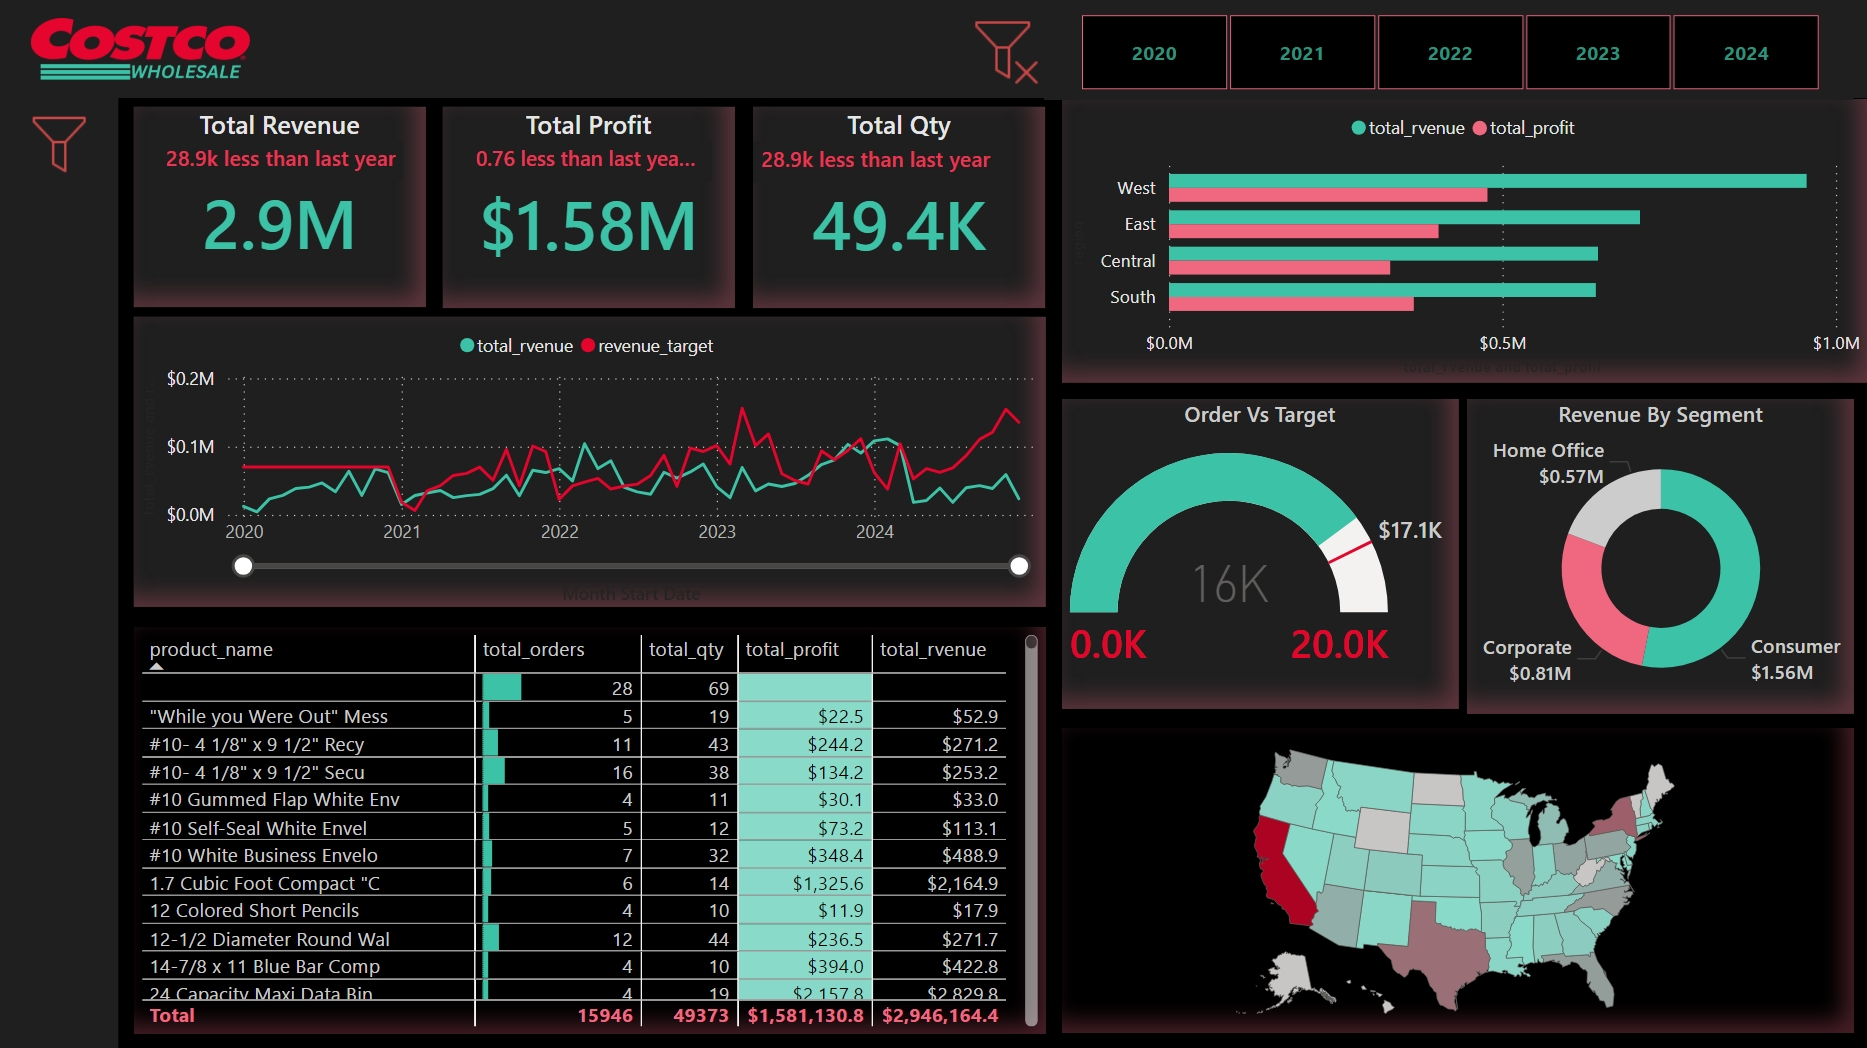

Layout of this report page (visuals, bound fields, positions):
{"tool":"powerbi","page":{"name":"Page 1","canvas":[1280,720],"ordinal":0},"visuals":[{"type":"shape","box":[0,0,1280.1,67.2],"z":0},{"type":"shape","box":[0,67.2,81.1,653.3],"z":1000},{"type":"image","box":[13.6,0,165,72.7],"z":2000},{"type":"card","title":"Total Revenue","fields":{"Values":["mesures_table.total_rvenue"]},"box":[90.9,72.7,200,137.1],"z":3000},{"type":"card","title":"Total Qty","fields":{"Values":["mesures_table.total_qty"]},"box":[514.8,72.7,199.9,137.8],"z":4000},{"type":"card","title":"Total Profit","fields":{"Values":["mesures_table.total_profit"]},"box":[302.9,72.7,199.9,137.8],"z":5000},{"type":"clusteredBarChart","fields":{"Category":["customers.region"],"Y":["mesures_table.total_rvenue","mesures_table.total_profit"]},"box":[726.8,68.1,552.7,193.8],"z":6000},{"type":"lineChart","fields":{"Category":["date_table.Month Start Date"],"Y":["mesures_table.total_rvenue","mesures_table.revenue_target"]},"box":[90.9,216.5,623.9,198.4],"z":7000},{"type":"gauge","title":"Order Vs Target","fields":{"Y":["mesures_table.total_orders"],"TargetValue":["mesures_table.target_orders"]},"box":[726.8,272.6,271,212],"z":8000},{"type":"donutChart","title":"Revenue By Segment","fields":{"Y":["mesures_table.total_rvenue"],"Category":["customers.Segment"]},"box":[1003.9,272.6,265,215],"z":9000},{"type":"tableEx","fields":{"Values":["products.product_name","mesures_table.total_orders","mesures_table.total_qty","mesures_table.total_profit","mesures_table.total_rvenue"]},"box":[90.9,428.5,623.9,278.6],"z":10000},{"type":"shapeMap","fields":{"Category":["customers.state"],"Value":["mesures_table.total_rvenue"]},"box":[726.8,498.2,542.1,209],"z":11000},{"type":"slicer","fields":{"Values":["date_table.Year"]},"box":[714.7,3,554.2,65.1],"z":12000},{"type":"image","title":"Clear Filter Button","box":[661.7,9.1,53,53],"z":13000},{"type":"image","title":"Open filter Pane Button","box":[7,72.7,67.2,51.8],"z":14000},{"type":"card","fields":{"Values":["mesures_table.kpi Qty YOY"]},"box":[107.5,96.9,168.1,27.3],"z":24000},{"type":"card","fields":{"Values":["mesures_table.KPI profit YOY"]},"box":[319,96.5,167.9,28],"z":25000},{"type":"card","fields":{"Values":["mesures_table.kpi Qty YOY"]},"box":[514.8,96.9,168.1,28.8],"z":26000}]}

Visuals, with their boxes in screenshot pixels (x1, y1, x2, y2), scaled from the page's 1280x720 canvas onto the 1867x1048 screenshot:
shape: [0,0,1866,98]
shape: [0,98,118,1047]
image: [20,0,261,106]
"Total Revenue" card: [133,106,424,305]
"Total Qty" card: [751,106,1042,306]
"Total Profit" card: [442,106,733,306]
clusteredBarChart - customers.region x mesures_table.total_rvenue: [1060,99,1866,381]
lineChart - date_table.Month Start Date x mesures_table.total_rvenue: [133,315,1043,604]
"Order Vs Target" gauge: [1060,397,1455,705]
"Revenue By Segment" donutChart: [1464,397,1851,710]
tableEx - products.product_name x mesures_table.total_orders: [133,624,1043,1029]
shapeMap - customers.state x mesures_table.total_rvenue: [1060,725,1851,1029]
slicer - date_table.Year: [1042,4,1851,99]
"Clear Filter Button" image: [965,13,1042,90]
"Open filter Pane Button" image: [10,106,108,181]
card - mesures_table.kpi Qty YOY: [157,141,402,181]
card - mesures_table.KPI profit YOY: [465,140,710,181]
card - mesures_table.kpi Qty YOY: [751,141,996,183]
